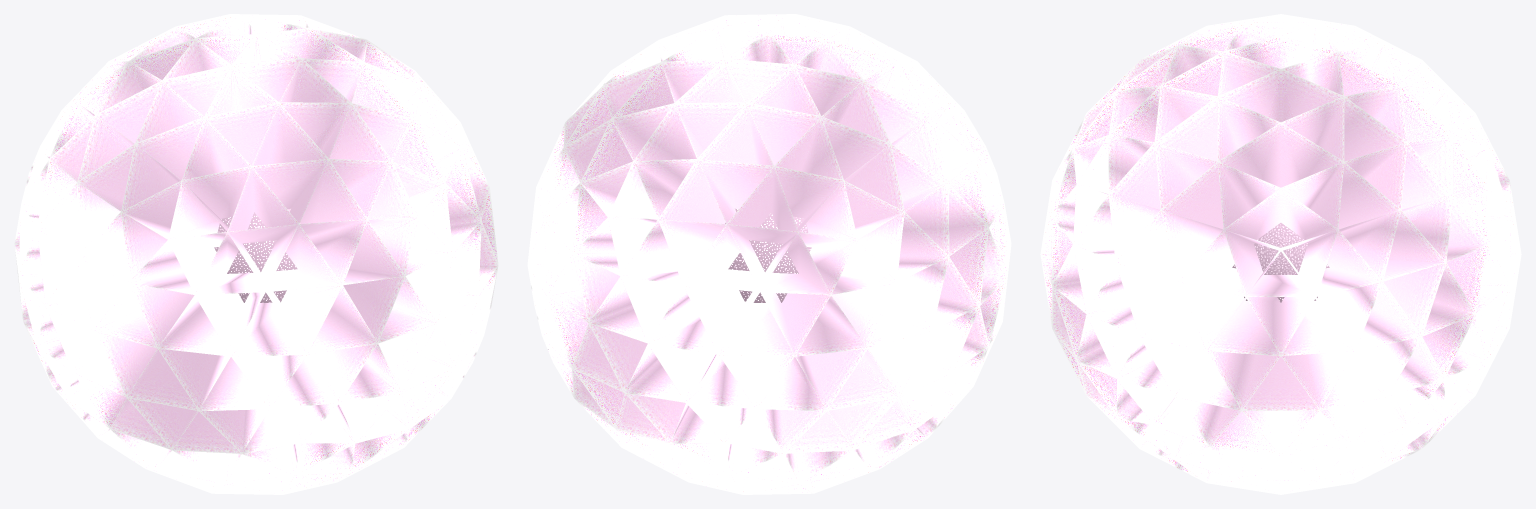
The model's file is ballLight.glb.
3 views of the same model, side by side, from view 1: azimuth 30°, elevation 25°; view 2: azimuth 150°, elevation 25°; view 3: azimuth 270°, elevation 25° (orthographic).
Parts seen in each view (by area): view 1: BallLightEmission, BallLight; view 2: BallLightEmission, BallLight; view 3: BallLightEmission, BallLight.
Part boxes in pixels (x1,y1,x2,y2): BallLightEmission: [14, 14, 498, 494]; BallLight: [214, 208, 300, 302]; BallLightEmission: [527, 14, 1011, 494]; BallLight: [725, 208, 811, 302]; BallLightEmission: [1040, 14, 1521, 494]; BallLight: [1232, 223, 1329, 302].
Size of what is drawn, in the model's own units: 1.82 by 1.82 by 1.82.
2 materials, 2 textured.
